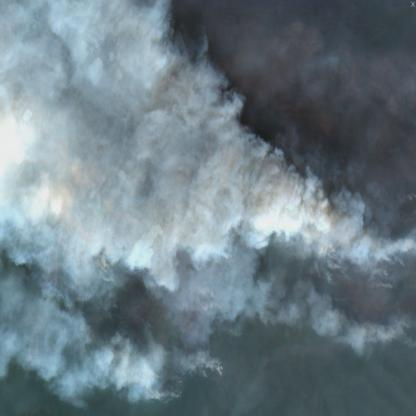fire: (66, 120, 152, 329), (316, 207, 416, 350), (142, 344, 228, 406), (24, 69, 61, 174)
